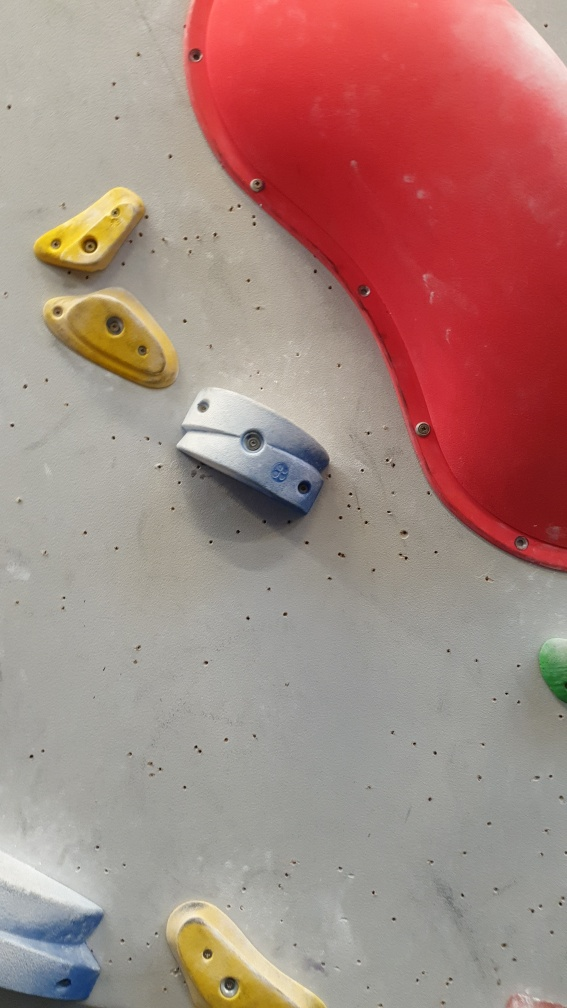Crimp: (171, 917, 302, 1008), (65, 291, 170, 380), (61, 198, 144, 276)
Pinch: (178, 385, 339, 510), (1, 835, 105, 1004)
